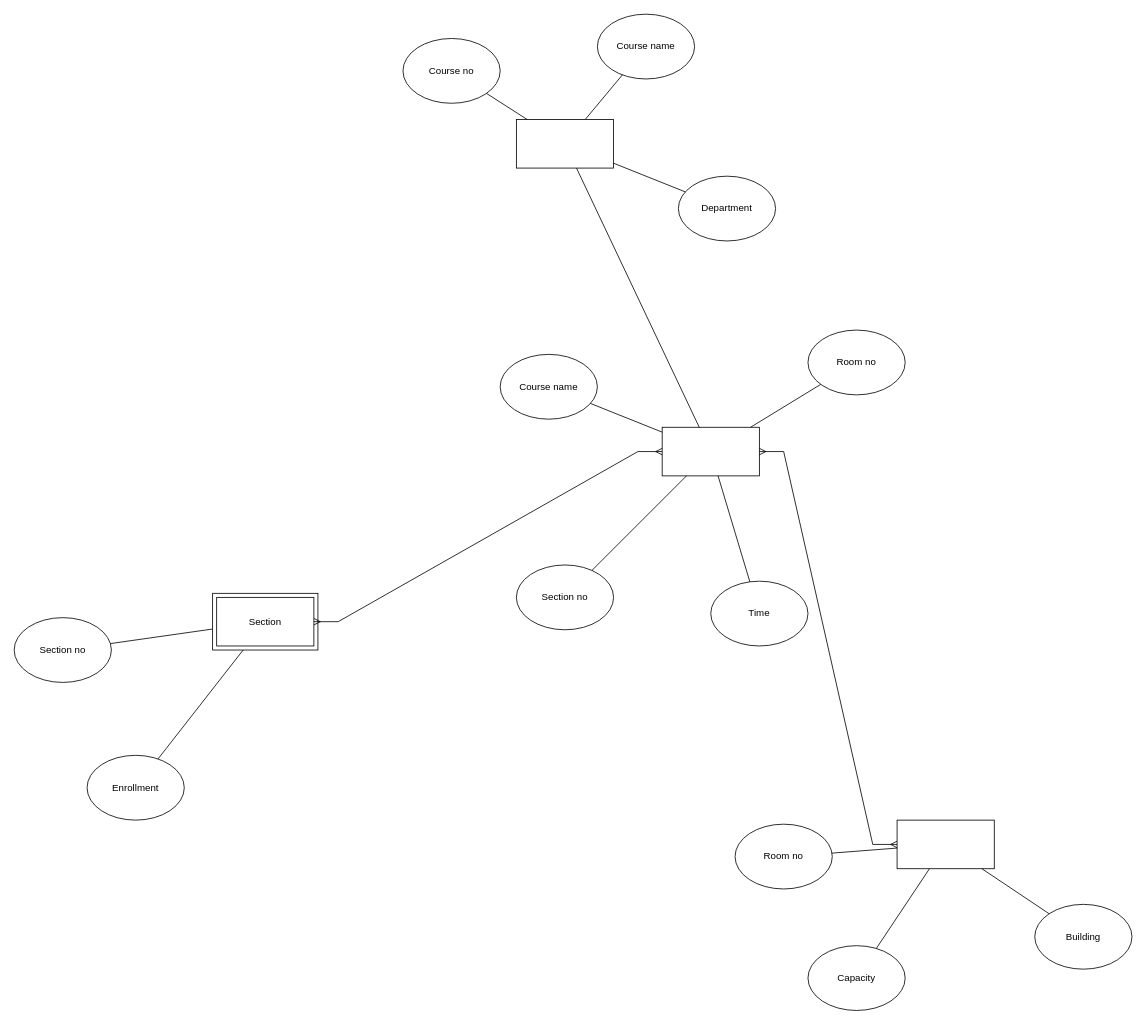
Some shapes in this 1146 by 1025 pixel diagram are drawn without their labels. The box of each missing label's shape, as (x1, y1, x2, y2) in pixels:
Course: (516, 119, 614, 168)
Exams: (661, 426, 759, 476)
Room: (896, 819, 994, 869)
